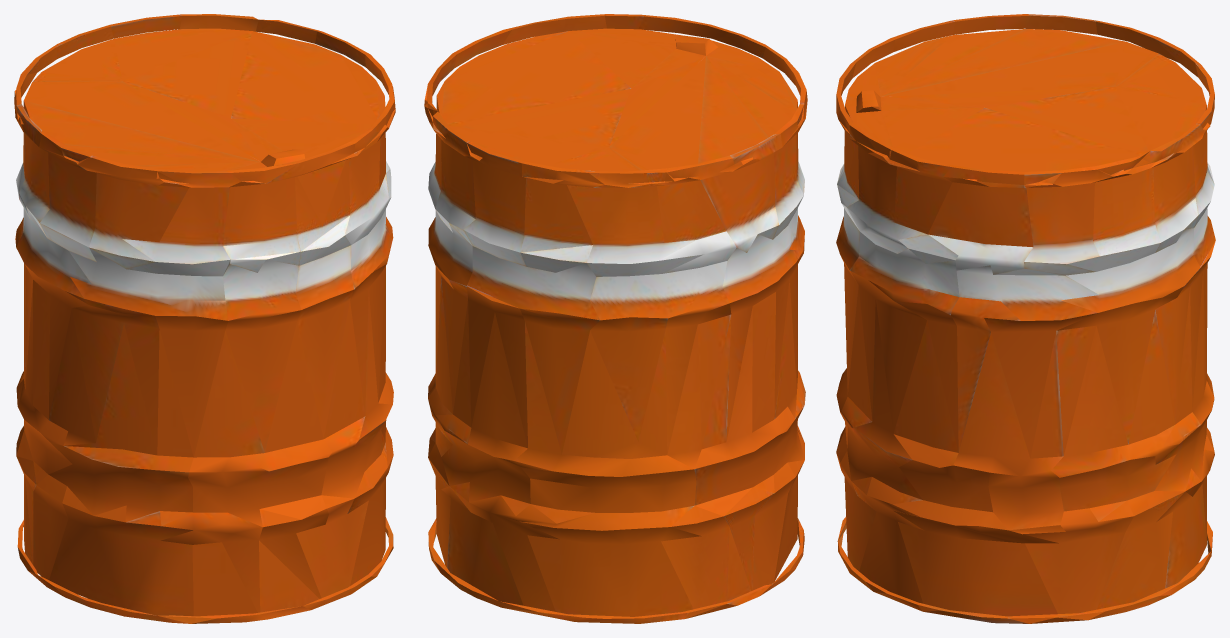
The model's file is barrel.glb.
3 views of the same model, side by side, from view 1: azimuth 30°, elevation 25°; view 2: azimuth 150°, elevation 25°; view 3: azimuth 270°, elevation 25° (orthographic).
Size of the model in its own units: 1.46 by 1.9 by 1.45.
1 material, 1 textured.
